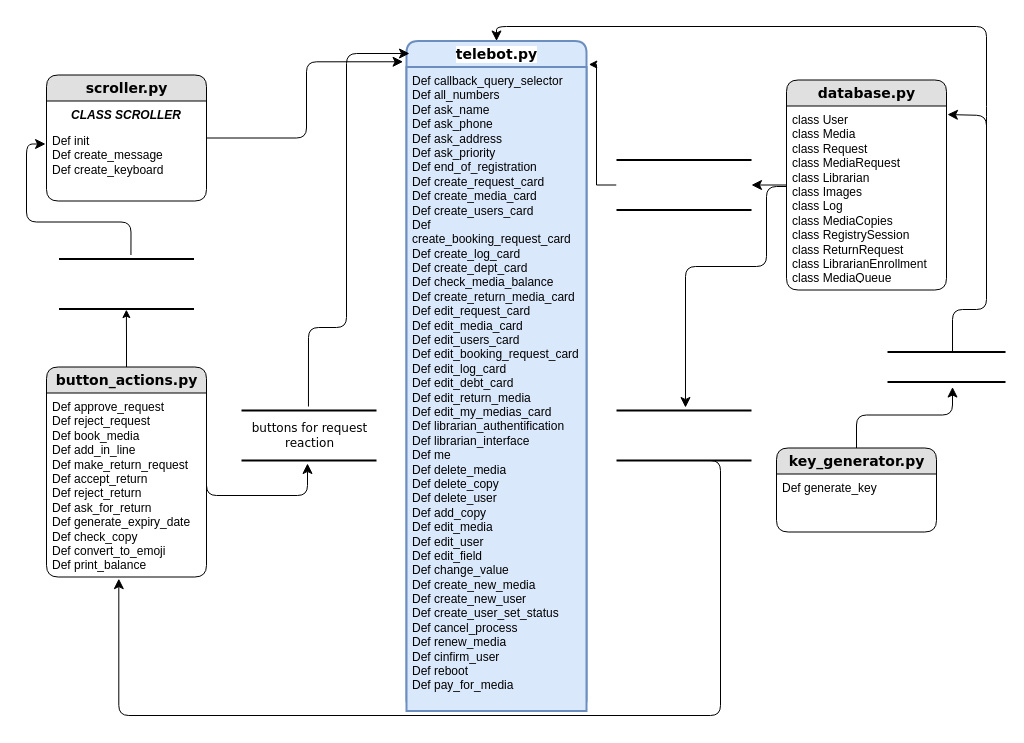
Image size: 1024x743. Some labels were removed from this diagram. Each missing label, with the centre of its shape:
all the information from database: point (683, 184)
convert_to_emoji: point (126, 284)
information about current user, requests and media: point (683, 435)
User sign in key: point (946, 366)
